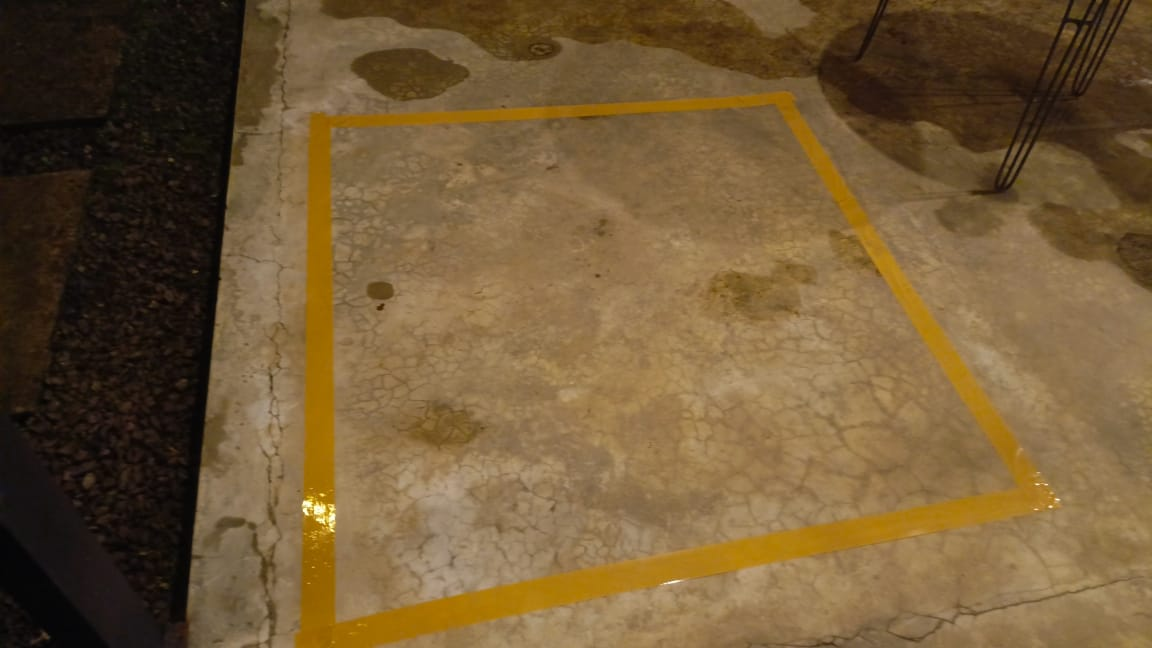floor marking: (296, 91, 1057, 647)
